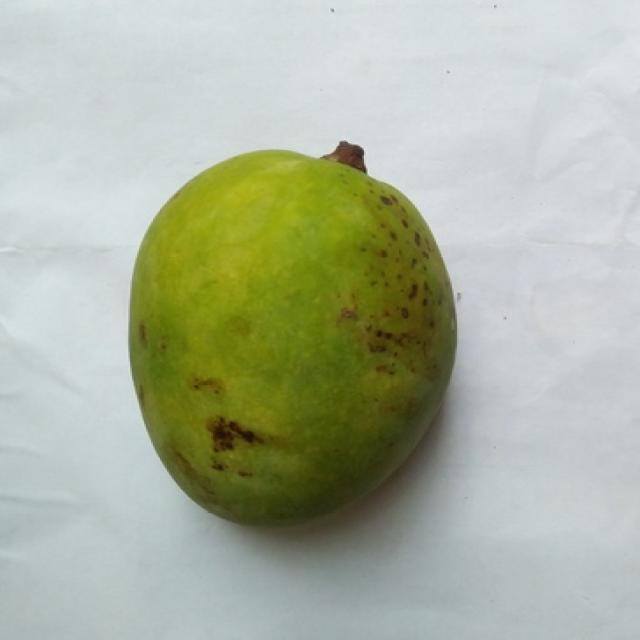Mango: (130, 150, 455, 524)
